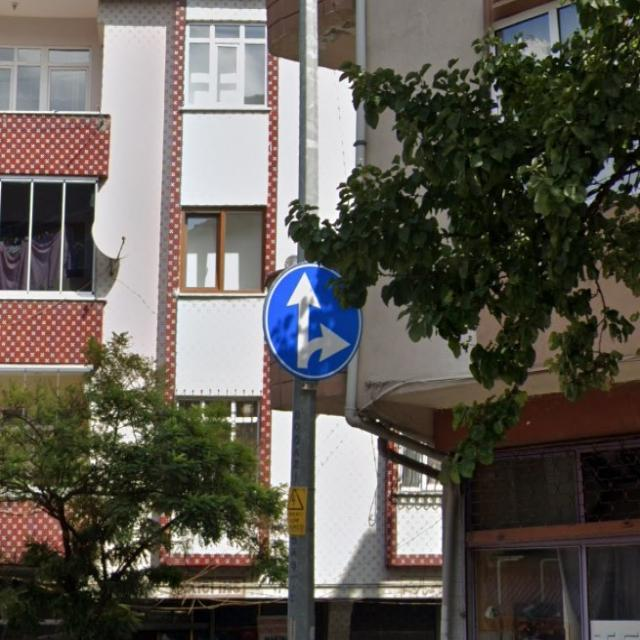ilerisag: (263, 260, 363, 374)
